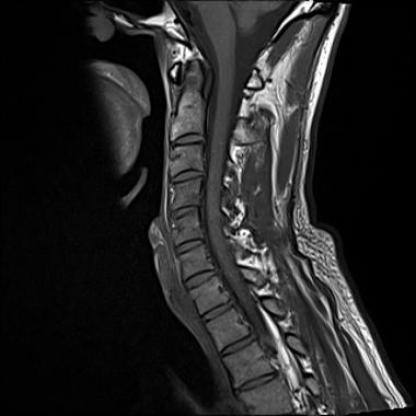Disc Protrusionrotation: (196, 303, 239, 321), (170, 167, 204, 186)
Osteophytesrotation: (170, 167, 204, 187)
